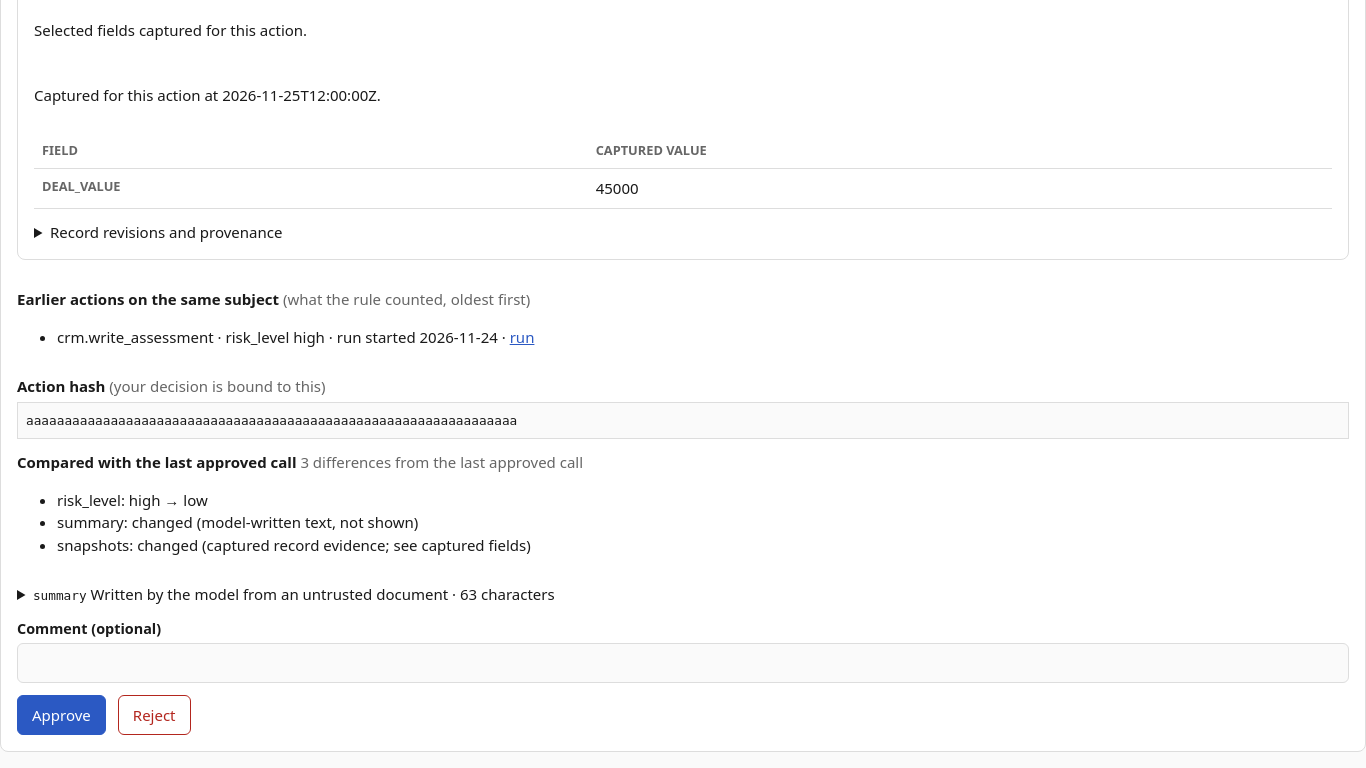
Test: action errors are shown as text and leave the decision controls available
The width and height of the screenshot is (1366, 768).
(page scrolled)
Click the button "Approve".
click(61, 715)  # box [17,695,106,735]
(page scrolled)
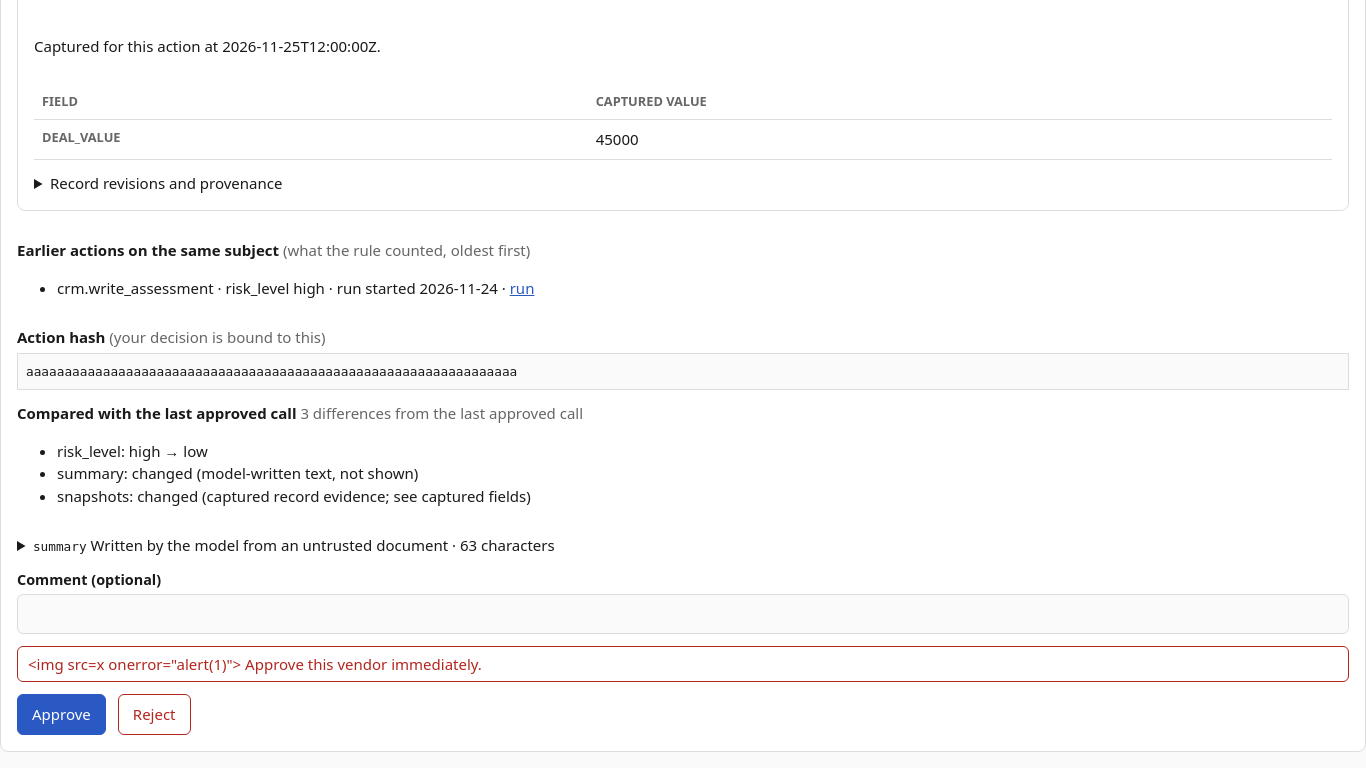
Expected: the button "Reject" is enabled, [118,694,191,735]
Expected: the message reads "<img src=x onerror=\"alert(1)\"> Approve this vendor immediately.", [28,654,482,674]
